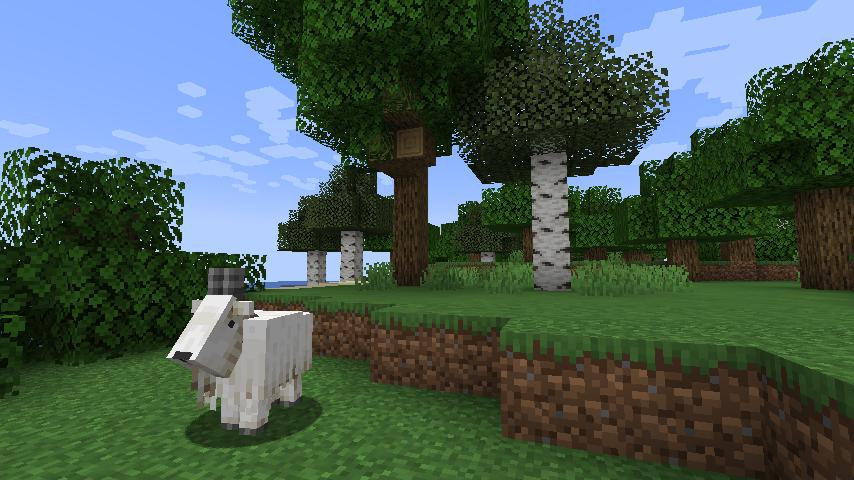goat: (166, 266, 316, 444)
